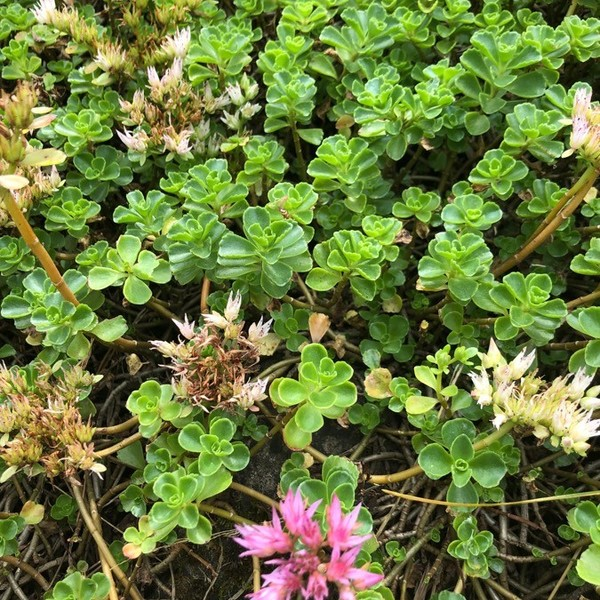obstacle: (90, 105, 562, 475)
